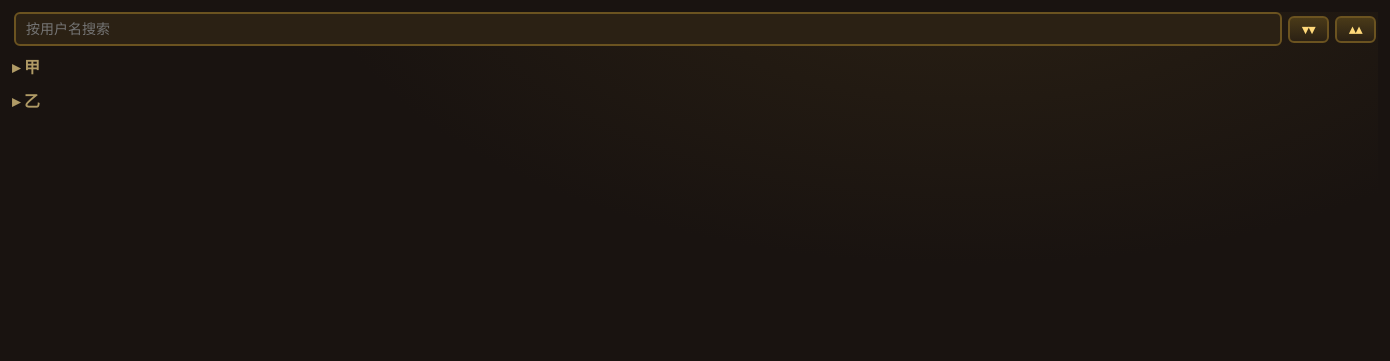
Test: RosterPool › 划水角色标灰 + 划水角标
Click the button "▾▾" at (1308, 29), box [1288,16,1329,42]
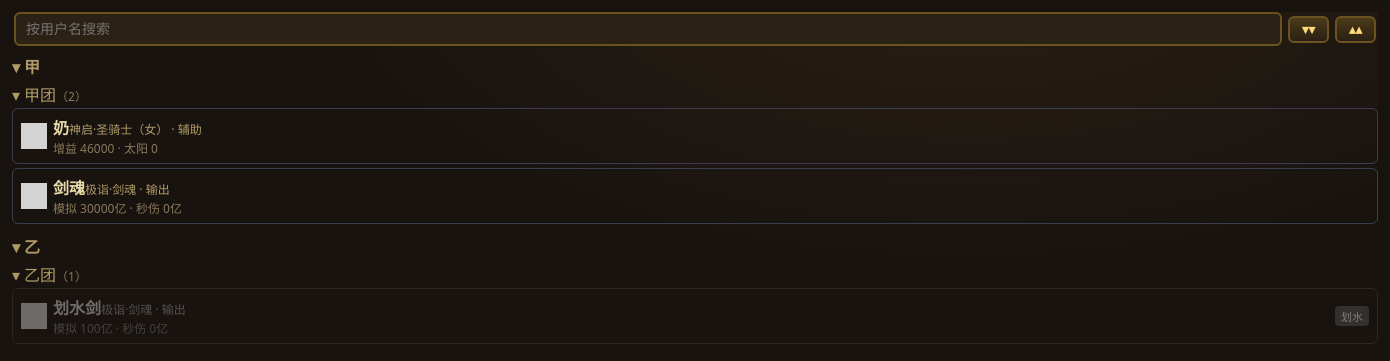
Now the element that starts with "划水剑" is shown, box [1341,309,1363,324]
